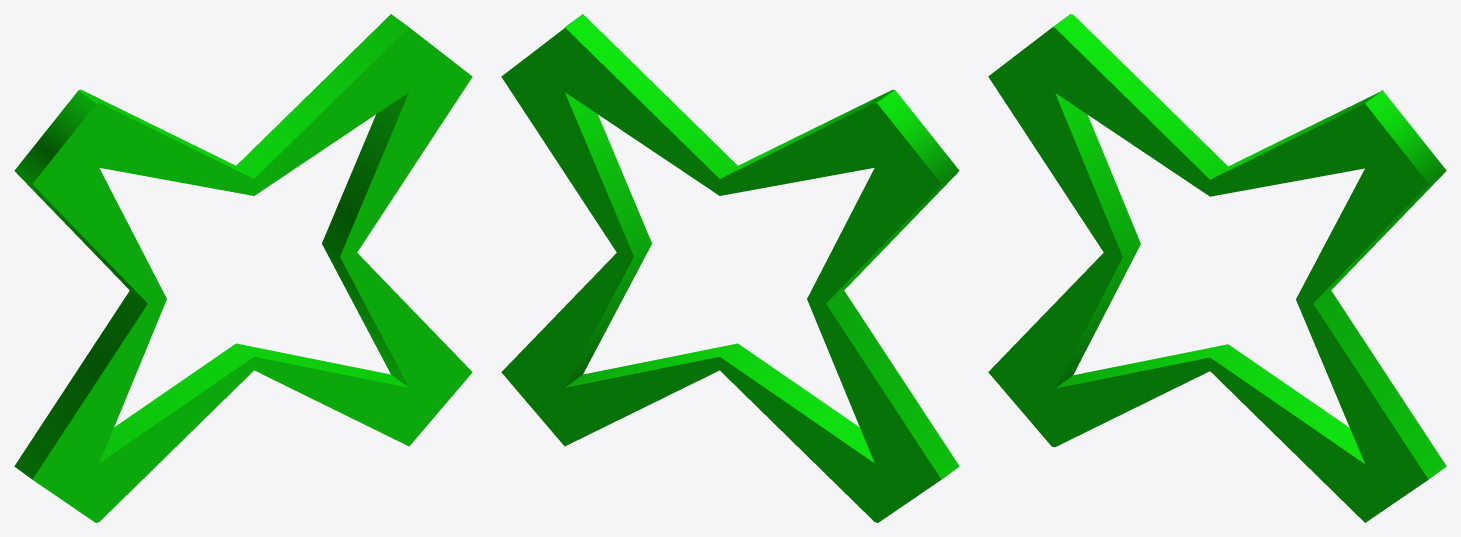
File: ret2.fbx
3 views of the same model, side by side, from view 1: azimuth 30°, elevation 25°; view 2: azimuth 150°, elevation 25°; view 3: azimuth 330°, elevation 25° (orthographic).
Visible parts, largest first — view 1: reticleV1; view 2: reticleV1; view 3: reticleV1.
Part boxes in pixels (x1,y1,x2,y2): reticleV1: (14, 14, 472, 522); reticleV1: (501, 14, 959, 522); reticleV1: (988, 14, 1446, 522).
Bounding box in the file's own units: 2.35 × 0.1671 × 2.14.
